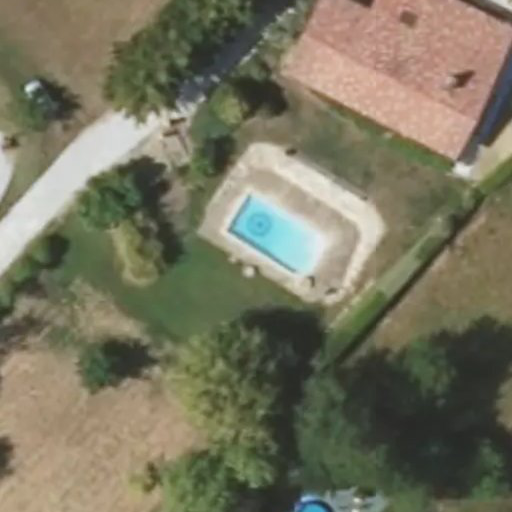pool: (205, 223, 306, 259)
